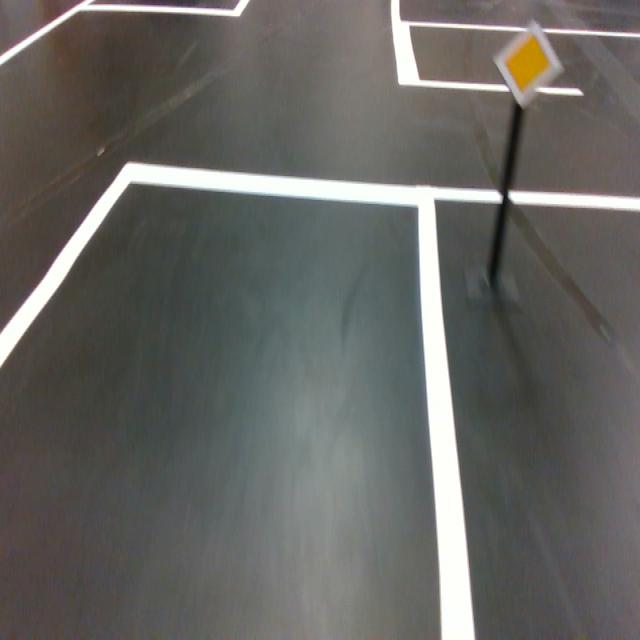priority-sign: (491, 17, 565, 111)
